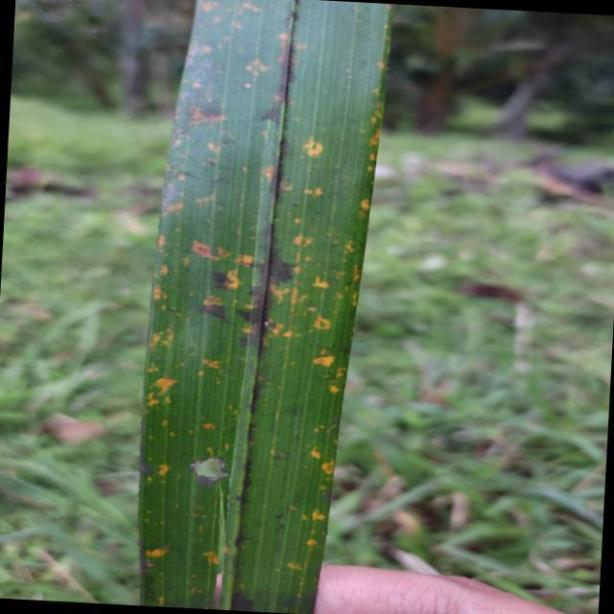Healthy: (137, 3, 394, 614)
